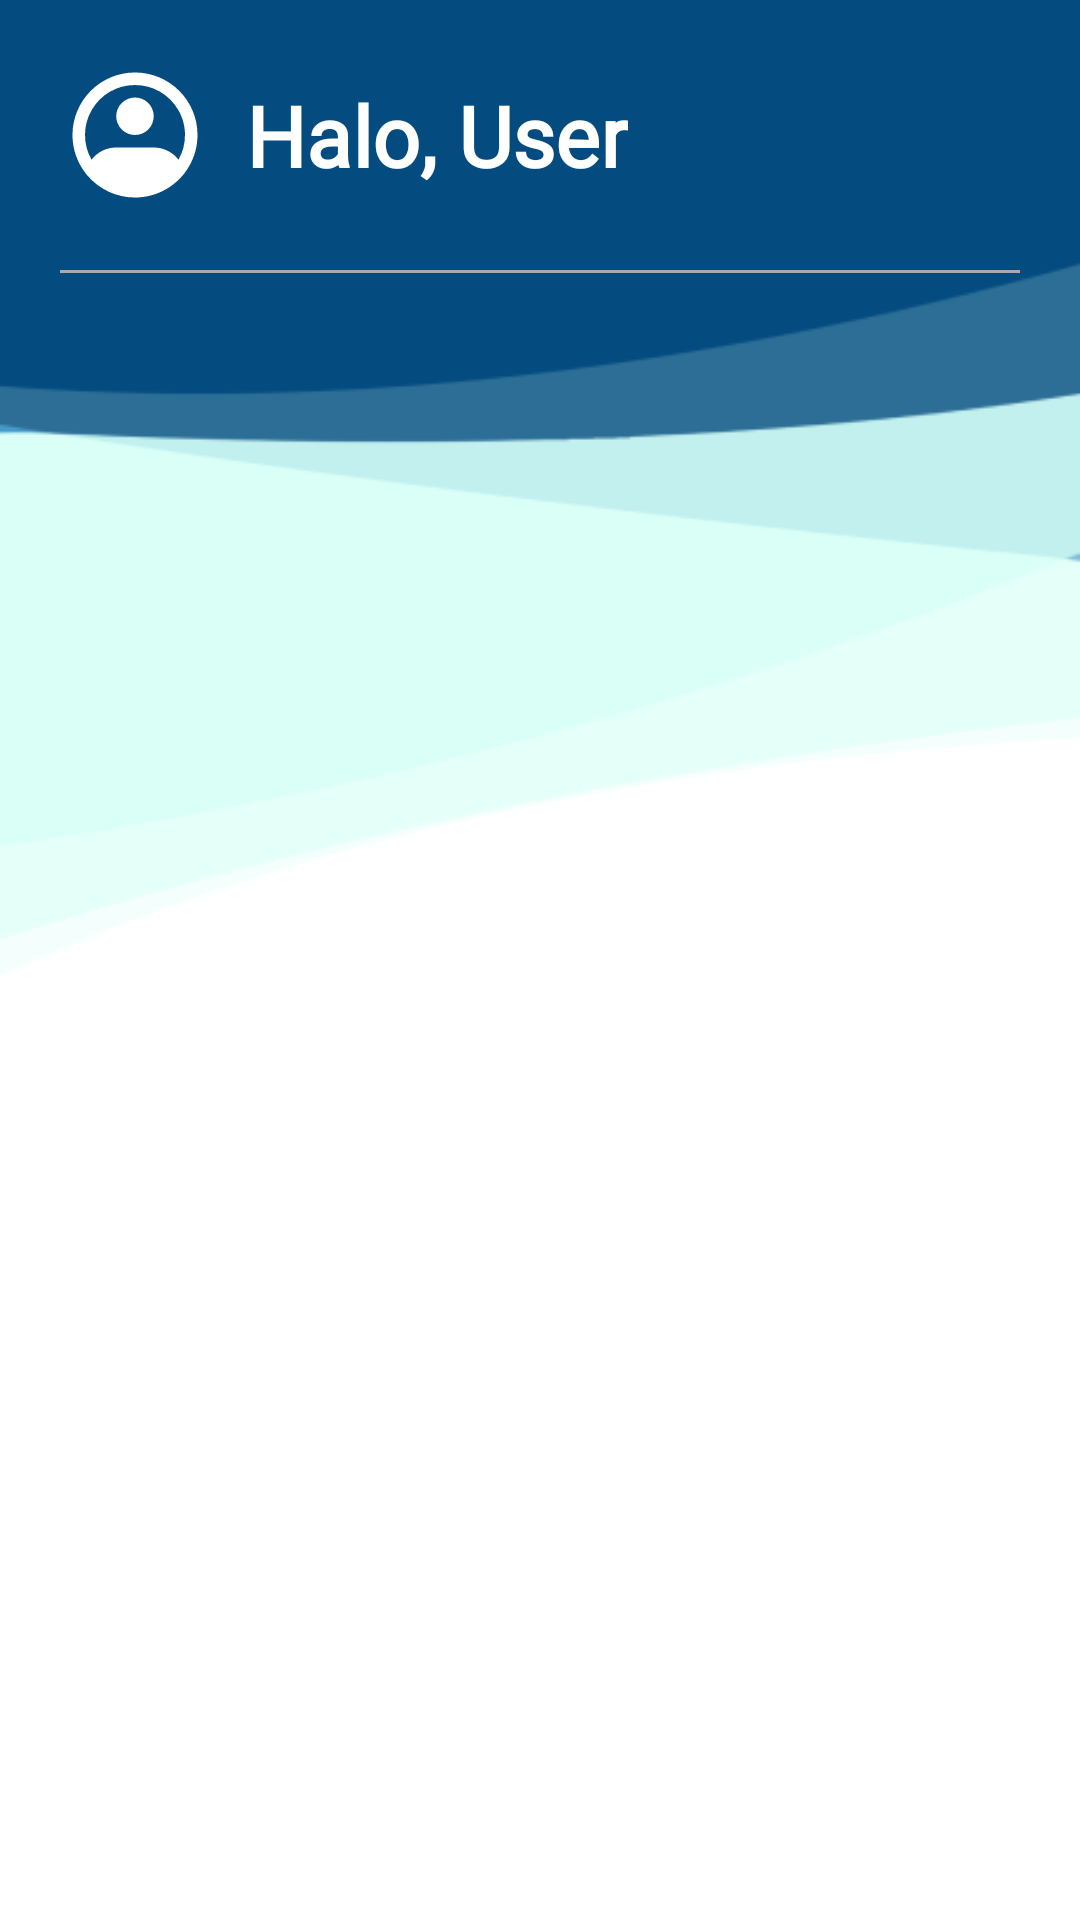

Screen size 1080*1920. Icon name, then its center in pixels as (x,y):
profile: (135,135)
